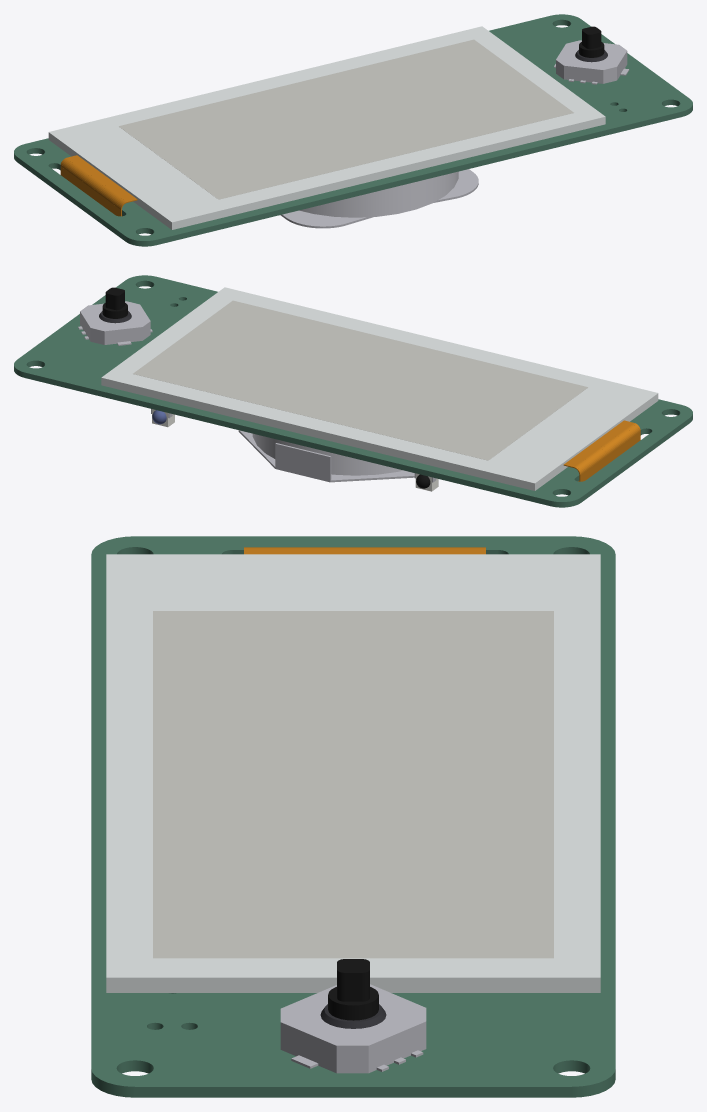
The model's file is irl2fa.glb.
3 views of the same model, one above another, from view 1: azimuth 30°, elevation 25°; view 2: azimuth 150°, elevation 25°; view 3: azimuth 270°, elevation 25° (orthographic). The views are drawn at different scales.
Parts seen in each view (by area): view 1: EPD_GoodDisplay_GDEY0213B74_Outline_1, EPD_GoodDisplay_GDEY0213B74_Outline_0, =>[0:1:1:8], BatteryHolder_MYOUNG_MY-2450-01_CR2450_8, SW_Nav_Alps_SKRHABE010_0, EPD_GoodDisplay_GDEY0213B74_Outline_2, BatteryHolder_MYOUNG_MY-2450-01_CR2450_0, SW_Nav_Alps_SKRHABE010_3; view 2: EPD_GoodDisplay_GDEY0213B74_Outline_1, EPD_GoodDisplay_GDEY0213B74_Outline_0, =>[0:1:1:8], SW_Nav_Alps_SKRHABE010_0, EPD_GoodDisplay_GDEY0213B74_Outline_2, BatteryHolder_MYOUNG_MY-2450-01_CR2450_8, BatteryHolder_MYOUNG_MY-2450-01_CR2450_7, BatteryHolder_MYOUNG_MY-2450-01_CR2450_0, SW_Nav_Alps_SKRHABE010_3; view 3: EPD_GoodDisplay_GDEY0213B74_Outline_1, EPD_GoodDisplay_GDEY0213B74_Outline_0, =>[0:1:1:8], SW_Nav_Alps_SKRHABE010_0, EPD_GoodDisplay_GDEY0213B74_Outline_2, SW_Nav_Alps_SKRHABE010_3, SW_Nav_Alps_SKRHABE010_2.
Part boxes in pixels (x1,y1,x2,y2): EPD_GoodDisplay_GDEY0213B74_Outline_1: (119,39,573,199); EPD_GoodDisplay_GDEY0213B74_Outline_0: (48,26,605,229); =>[0:1:1:8]: (14,14,692,246); BatteryHolder_MYOUNG_MY-2450-01_CR2450_8: (299,171,458,217); SW_Nav_Alps_SKRHABE010_0: (556,40,627,83); EPD_GoodDisplay_GDEY0213B74_Outline_2: (60,155,137,216); BatteryHolder_MYOUNG_MY-2450-01_CR2450_0: (280,169,478,228); SW_Nav_Alps_SKRHABE010_3: (582,26,601,49); EPD_GoodDisplay_GDEY0213B74_Outline_1: (133,300,587,460); EPD_GoodDisplay_GDEY0213B74_Outline_0: (101,287,658,490); =>[0:1:1:8]: (14,275,692,507); SW_Nav_Alps_SKRHABE010_0: (80,301,150,344); EPD_GoodDisplay_GDEY0213B74_Outline_2: (563,420,640,481); BatteryHolder_MYOUNG_MY-2450-01_CR2450_8: (252,433,403,475); BatteryHolder_MYOUNG_MY-2450-01_CR2450_7: (275,443,331,481); BatteryHolder_MYOUNG_MY-2450-01_CR2450_0: (238,430,414,482); SW_Nav_Alps_SKRHABE010_3: (105,287,124,310); EPD_GoodDisplay_GDEY0213B74_Outline_1: (153,611,553,958); EPD_GoodDisplay_GDEY0213B74_Outline_0: (106,554,600,992); =>[0:1:1:8]: (91,536,615,1097); SW_Nav_Alps_SKRHABE010_0: (280,984,426,1073); EPD_GoodDisplay_GDEY0213B74_Outline_2: (244,547,485,554); SW_Nav_Alps_SKRHABE010_3: (337,959,369,1001); SW_Nav_Alps_SKRHABE010_2: (328,987,378,1020).
Size of the model in its own units: 0.077 by 0.0116 by 0.031.
